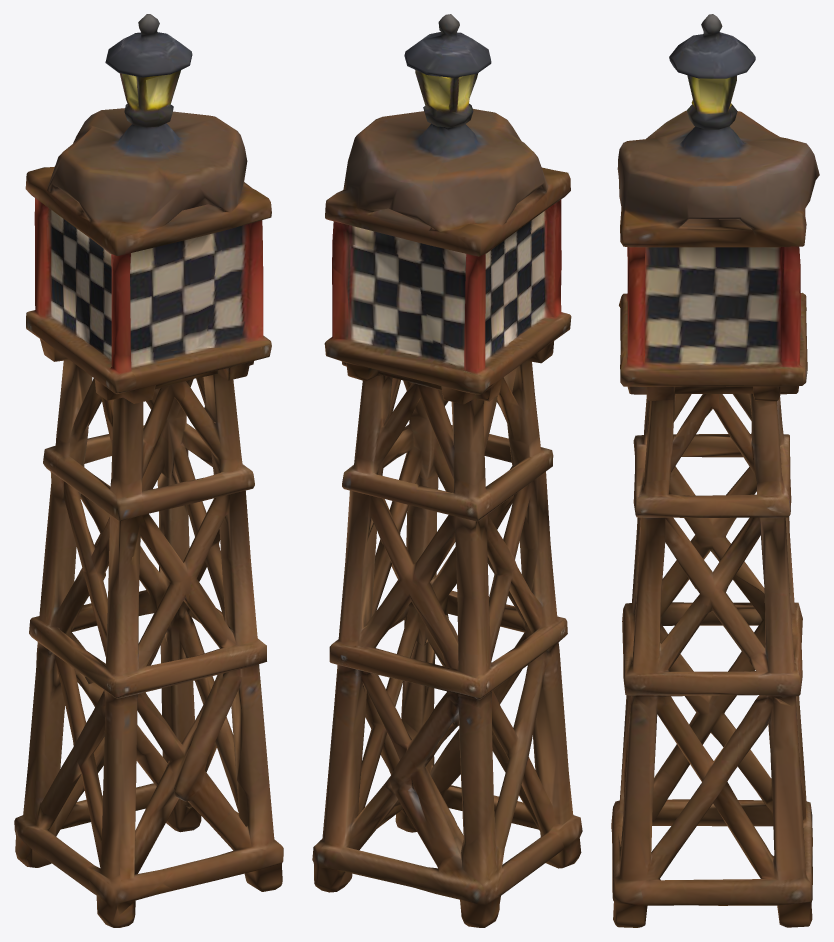
Rendered from marker_tower.glb.
3 renders of one model, left to right at view 1: azimuth 30°, elevation 25°; view 2: azimuth 150°, elevation 25°; view 3: azimuth 270°, elevation 25°, orthographic.
Visible parts, largest first — view 1: tripo_node_e642c9f9-10db-4af2-a80b-22ccf51b52ab; view 2: tripo_node_e642c9f9-10db-4af2-a80b-22ccf51b52ab; view 3: tripo_node_e642c9f9-10db-4af2-a80b-22ccf51b52ab.
Part boxes in pixels (x1,y1,x2,y2): tripo_node_e642c9f9-10db-4af2-a80b-22ccf51b52ab: [14, 14, 283, 927]; tripo_node_e642c9f9-10db-4af2-a80b-22ccf51b52ab: [312, 14, 582, 927]; tripo_node_e642c9f9-10db-4af2-a80b-22ccf51b52ab: [611, 14, 819, 927].
Bounding box in the file's own units: 1.72 × 8 × 1.73.
Materials: 1 (1 with a texture image).
